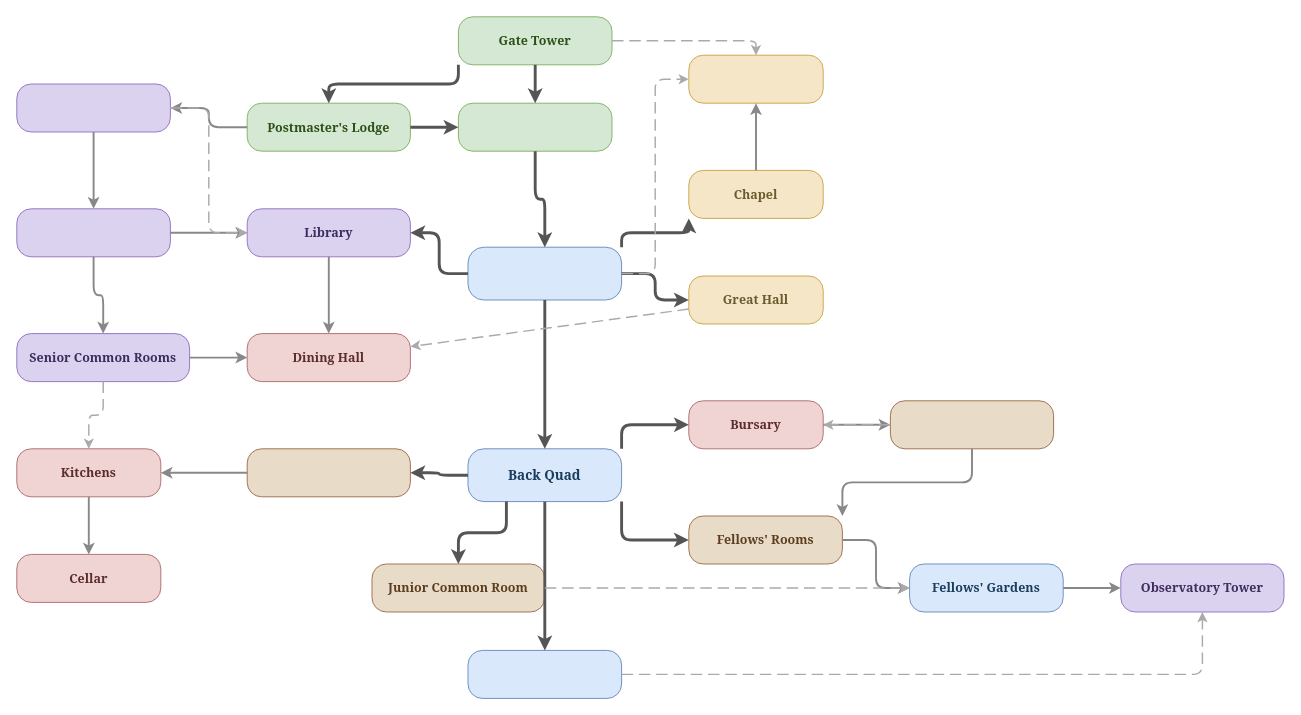
Some shapes in this 1301 by 715 pixel diagram are drawn without their labels. Each missing label, with the centre of its shape:
"Cloister" belongs at point 755,78.
"College Gardens" belongs at point 544,673.
"Front Quad" belongs at point 544,273.
"Lecture Rooms" belongs at point 93,232.
"Muniment Room" belongs at point 93,107.
"Porter's Lodge" belongs at point 534,126.
"Student Rooms" belongs at point 328,472.
"Warden's Lodgings" belongs at point 971,424.
